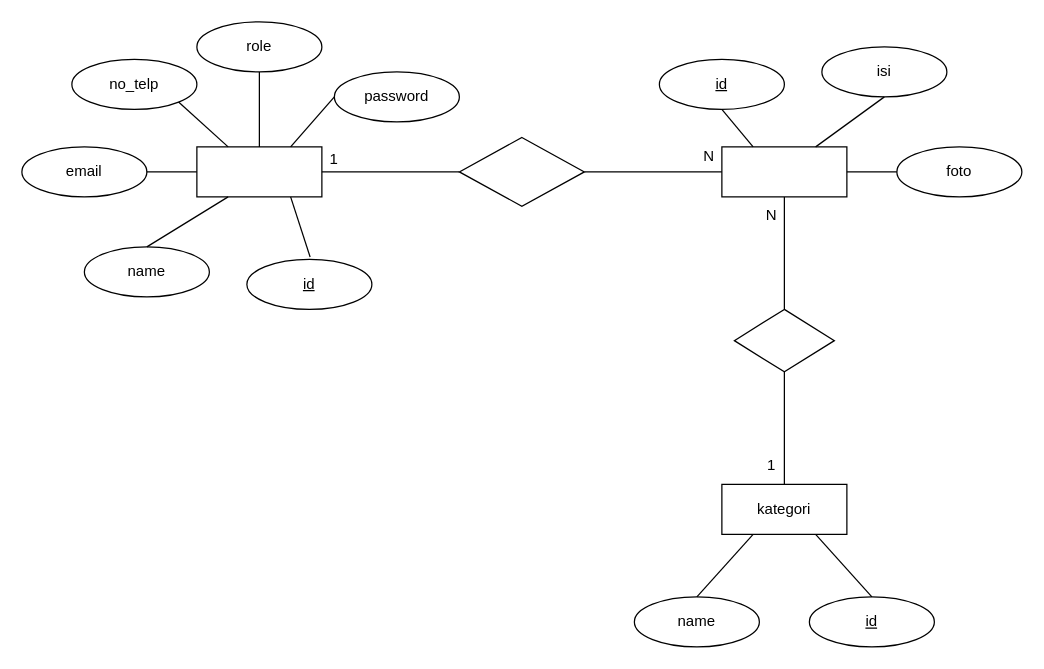
This 1044x669 diagram has some shape labels left out. The shapes that lost their labels are listed below. From the top down, each one's centre as x and y in pixels, then its label:
At point (259, 171): "user".
At point (521, 171): "membuat".
At point (784, 171): "pengaduan".
At point (783, 340): "memiliki".
